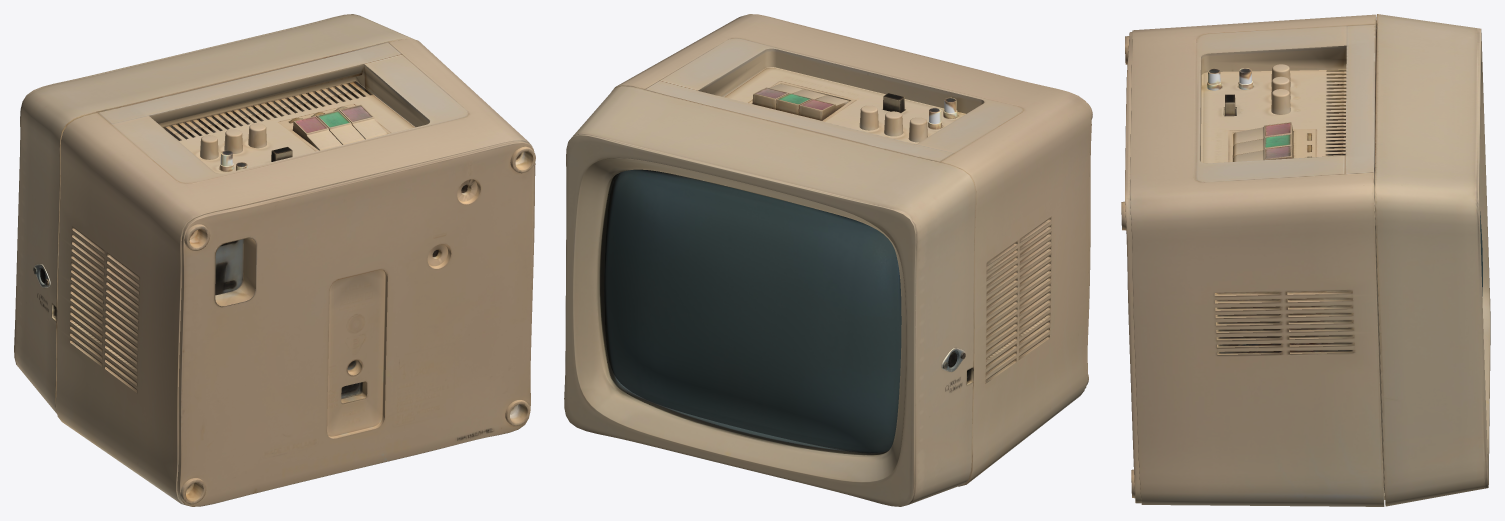
The picture shows the model from 3 angles, left to right: view 1: azimuth 30°, elevation 25°; view 2: azimuth 150°, elevation 25°; view 3: azimuth 270°, elevation 25°; orthographic projection. The views are drawn at different scales.
Parts seen in each view (by area): view 1: EXPORT_Baked; view 2: EXPORT_Baked; view 3: EXPORT_Baked.
Boxes of the visible parts, x1,y1,x2,y2 form: EXPORT_Baked: (14, 14, 535, 506); EXPORT_Baked: (564, 14, 1092, 506); EXPORT_Baked: (1121, 14, 1490, 506).
Bounding box in the file's own units: 31.73 × 26.62 × 26.72.
